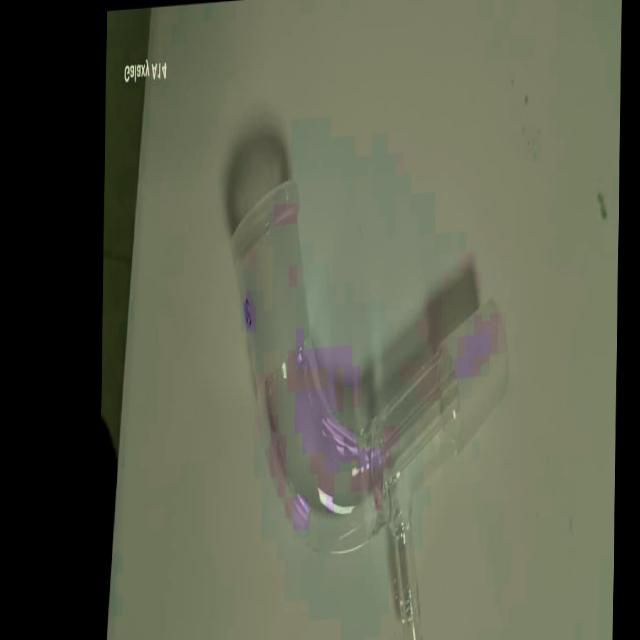Angled Extension for Vacuum Distillation: (208, 150, 517, 640)
